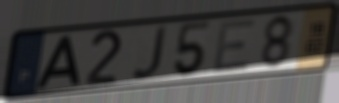2: (84, 28, 123, 86)
5: (171, 19, 212, 80)
8: (260, 13, 296, 70)
A: (34, 33, 83, 91)
E: (210, 16, 258, 76)
J: (128, 23, 169, 82)
